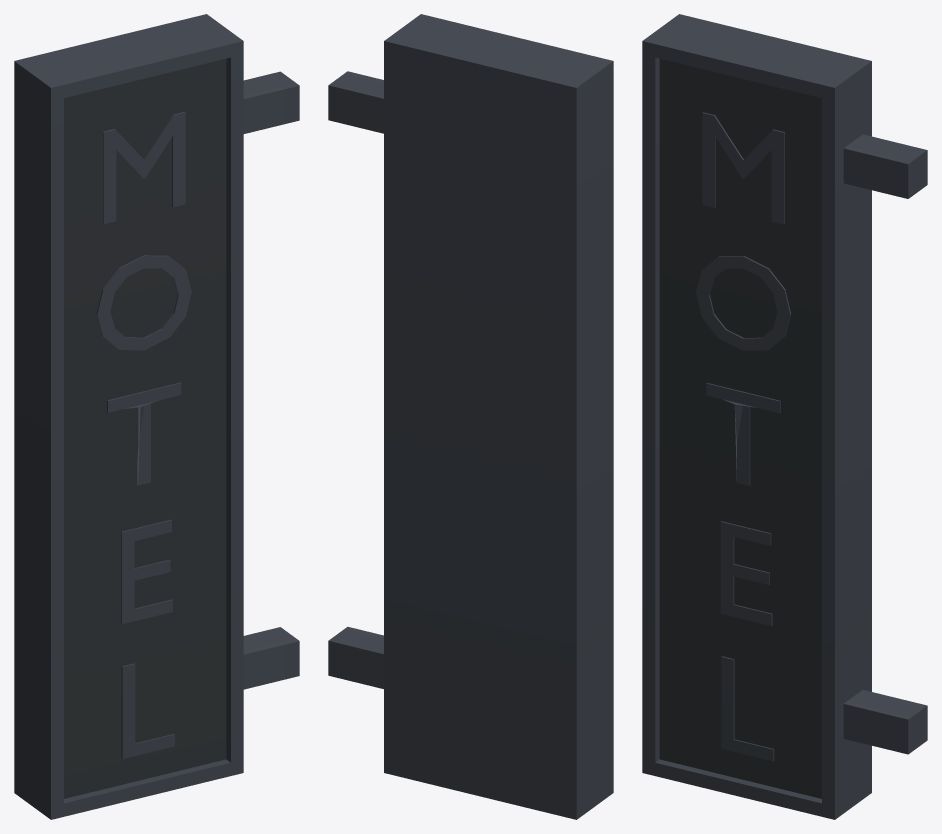
The model's file is Banner_04.fbx.
3 views of the same model, side by side, from view 1: azimuth 30°, elevation 25°; view 2: azimuth 150°, elevation 25°; view 3: azimuth 330°, elevation 25° (orthographic).
Parts seen in each view (by area): view 1: Banner_04; view 2: Banner_04; view 3: Banner_04.
Part boxes in pixels (bbox=[...]): Banner_04: bbox=[14, 14, 299, 819]; Banner_04: bbox=[328, 14, 613, 819]; Banner_04: bbox=[642, 14, 927, 819].
Bounding box in the file's own units: 1.13 × 3.06 × 0.2801.
